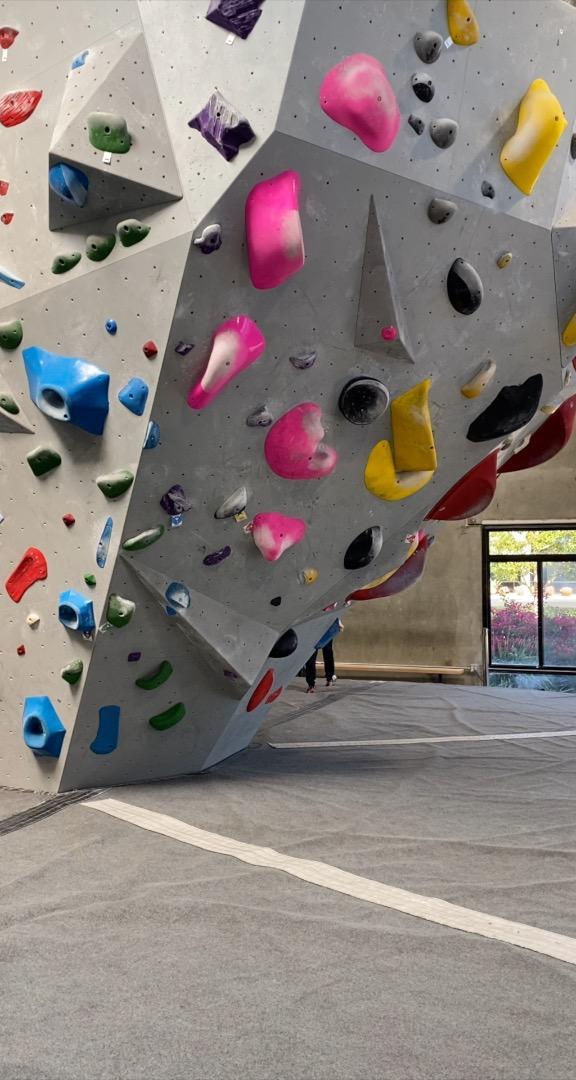holds: (318, 51, 404, 155), (498, 77, 569, 198), (21, 344, 111, 437), (184, 313, 268, 411), (243, 166, 308, 292), (495, 390, 575, 475), (422, 445, 504, 524), (263, 399, 340, 482), (344, 532, 431, 604), (464, 371, 545, 445), (363, 438, 446, 502), (186, 90, 257, 163), (390, 378, 439, 476), (353, 528, 421, 593), (251, 510, 307, 565), (21, 695, 68, 760), (337, 373, 391, 427), (3, 545, 50, 605), (204, 0, 266, 41), (446, 256, 484, 317), (86, 110, 132, 155), (47, 163, 91, 209), (342, 524, 384, 571), (57, 588, 97, 636), (0, 87, 44, 129), (89, 704, 122, 756), (445, 0, 481, 47), (460, 358, 499, 400), (245, 667, 276, 713), (117, 376, 150, 417), (95, 468, 136, 501), (25, 443, 63, 478), (121, 523, 166, 552), (134, 659, 174, 691), (148, 701, 187, 733), (214, 485, 249, 520), (192, 221, 225, 256), (158, 484, 194, 516), (105, 593, 137, 629), (413, 28, 444, 65), (0, 249, 27, 291), (94, 516, 115, 570), (84, 231, 118, 263), (428, 117, 460, 150), (117, 217, 151, 248), (268, 626, 299, 659), (426, 196, 458, 225), (410, 70, 437, 104), (164, 580, 192, 611), (51, 250, 83, 276), (0, 318, 24, 352), (244, 403, 275, 429), (287, 349, 320, 371), (561, 297, 575, 348), (60, 657, 84, 686), (202, 545, 233, 567), (539, 394, 567, 416), (141, 420, 161, 450), (0, 24, 21, 51), (0, 391, 21, 416), (407, 112, 426, 137), (512, 434, 533, 455), (173, 339, 196, 358), (298, 566, 319, 586), (479, 179, 497, 201), (141, 339, 160, 359), (70, 50, 89, 70), (265, 685, 284, 705), (379, 325, 399, 342), (496, 252, 513, 269), (104, 317, 119, 336), (0, 210, 15, 227), (61, 513, 77, 528), (223, 669, 239, 684), (83, 572, 98, 587), (26, 612, 40, 628), (568, 130, 575, 161), (322, 601, 339, 613), (0, 178, 10, 198), (127, 651, 143, 663), (564, 367, 573, 388), (269, 596, 283, 607), (500, 441, 513, 452), (166, 604, 177, 617), (16, 643, 27, 656), (500, 437, 515, 445)
